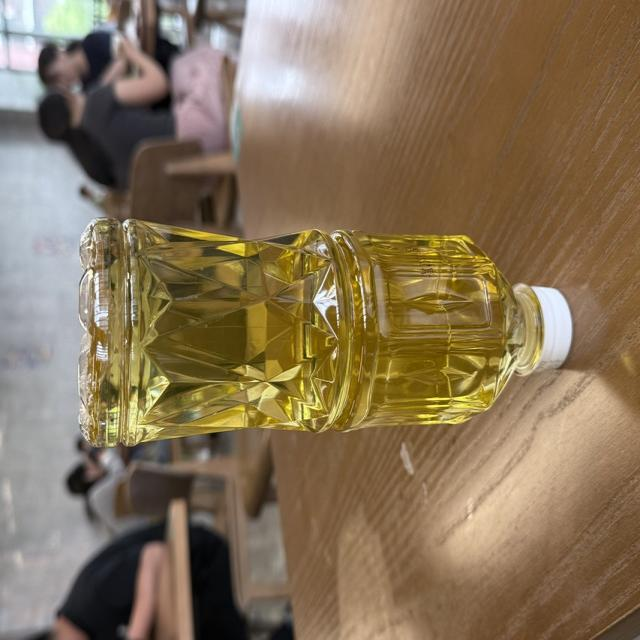high: (78, 220, 571, 446), (0, 636, 5, 639)
